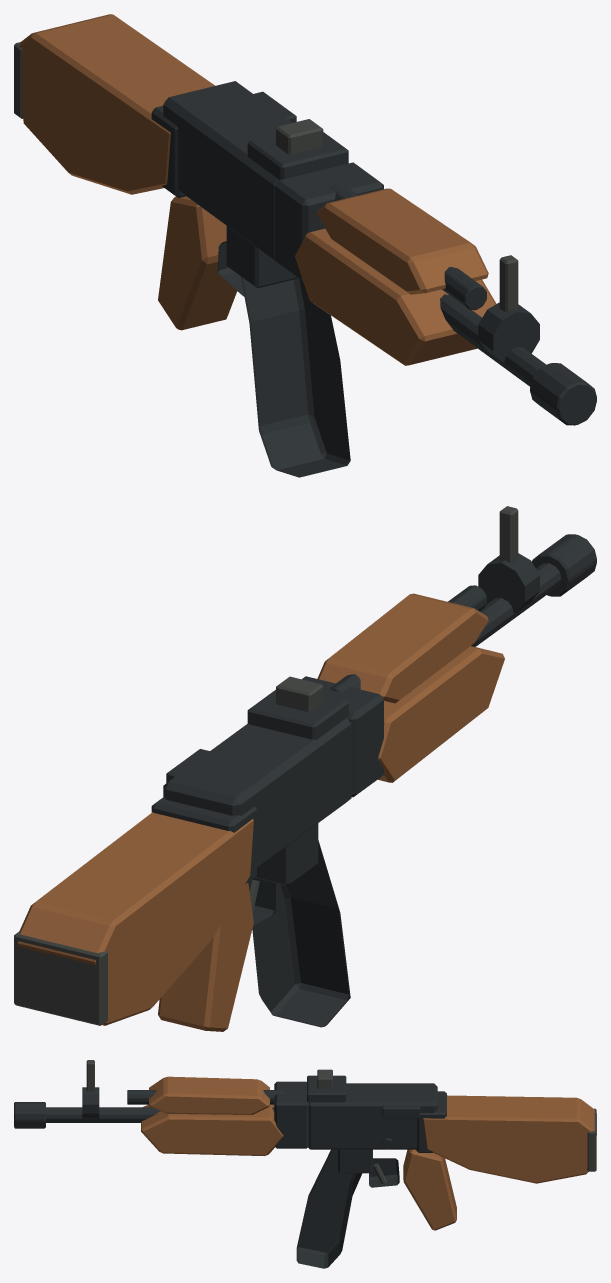
3 views of the same model, one above another, from view 1: azimuth 30°, elevation 25°; view 2: azimuth 150°, elevation 25°; view 3: azimuth 270°, elevation 25° (orthographic). The views are drawn at different scales.
Visible parts, largest first — view 1: FTF_Weapon_AK47_Black_Mesh; view 2: FTF_Weapon_AK47_Black_Mesh; view 3: FTF_Weapon_AK47_Black_Mesh.
Part boxes in pixels (box(x1,y1,x2,y2)): FTF_Weapon_AK47_Black_Mesh: box(14, 14, 596, 477); FTF_Weapon_AK47_Black_Mesh: box(14, 506, 596, 1031); FTF_Weapon_AK47_Black_Mesh: box(14, 1060, 596, 1268).
Size of the model in its own units: 0.198 by 0.7282 by 1.92.
